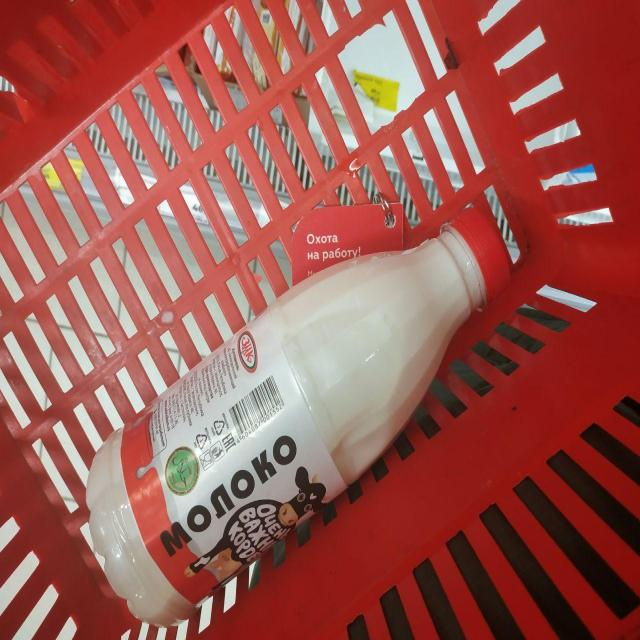Milk: (86, 210, 509, 626)
